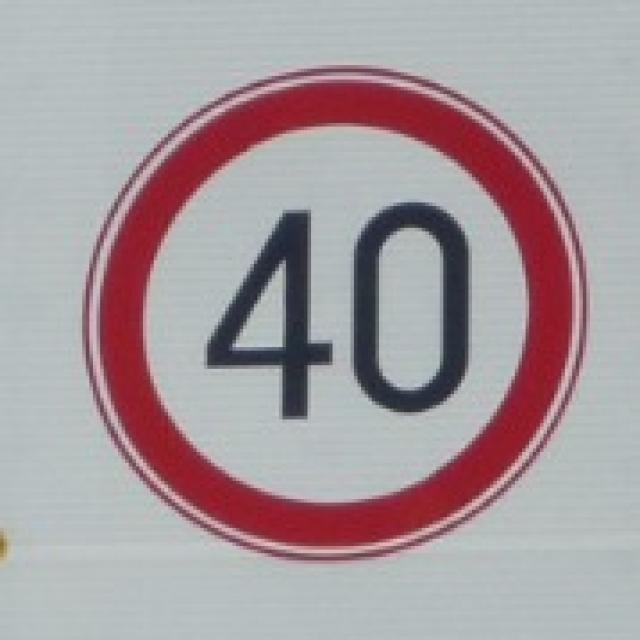Speed Limit -40-: (202, 203, 472, 418)
